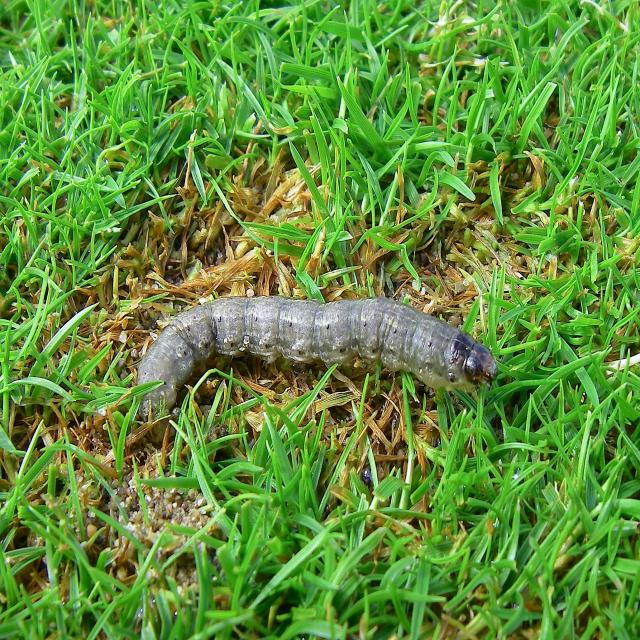Cutworm: (125, 278, 507, 455)
